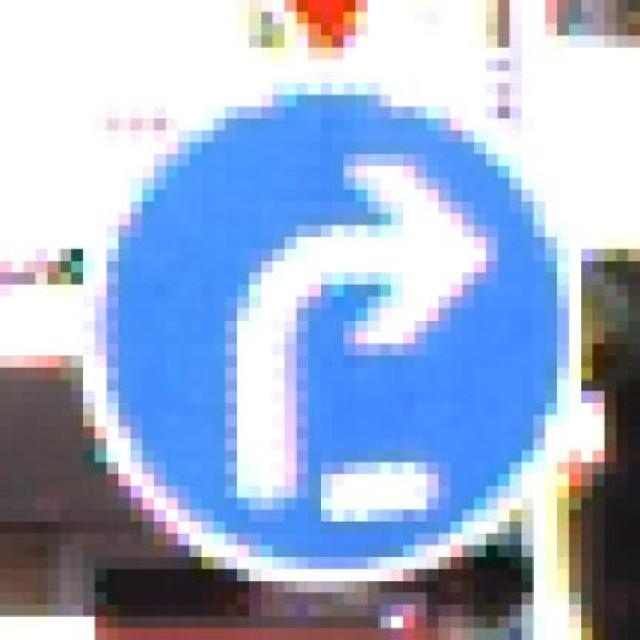Turn right ahead: (48, 82, 604, 593)
